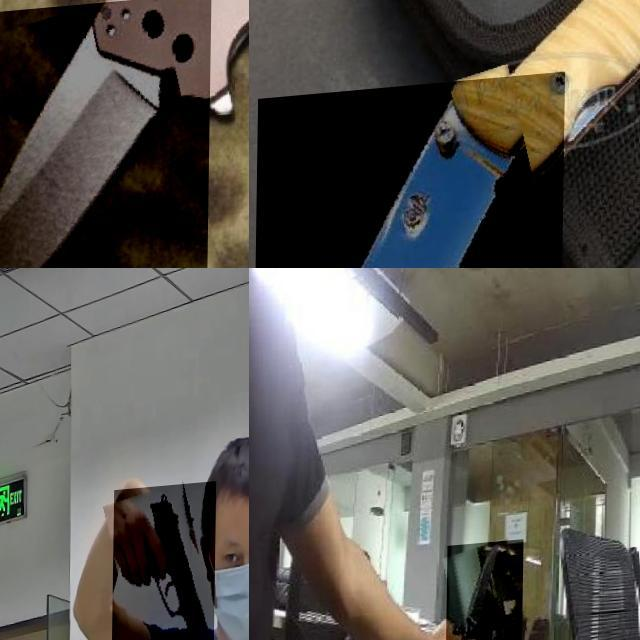-: (254, 77, 565, 268), (0, 0, 212, 268), (447, 545, 524, 640)
gun-knife-thesis - v11 Yolov5 augmented: (112, 488, 217, 640)
